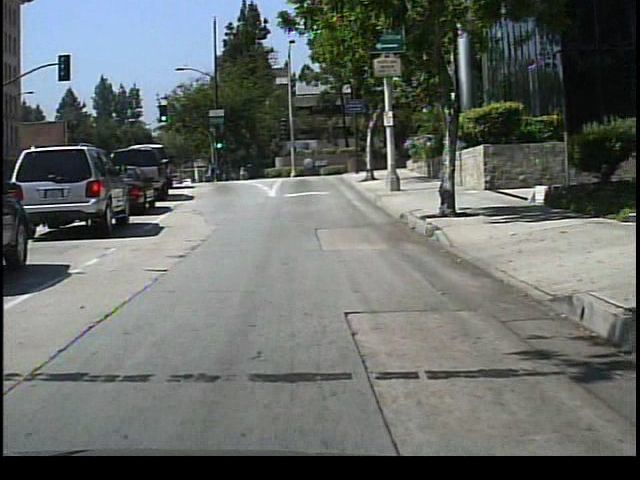person: (210, 160, 224, 184)
